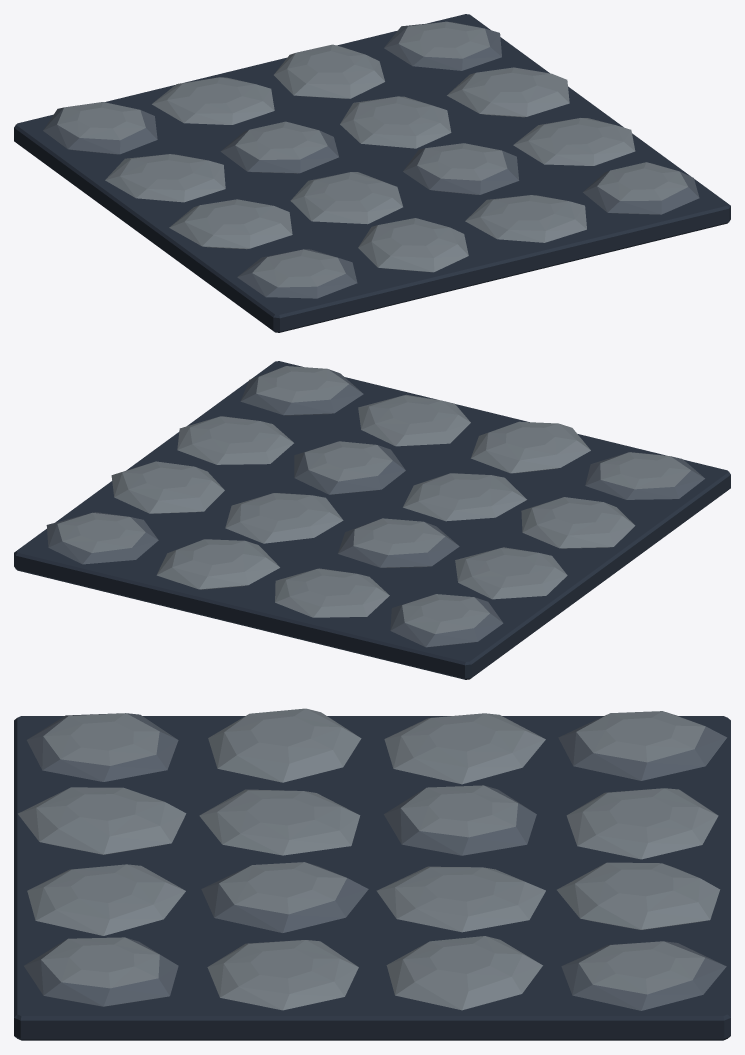
The model's file is floor-rubble.glb.
The picture shows the model from 3 angles, top to bottom: view 1: azimuth 30°, elevation 25°; view 2: azimuth 150°, elevation 25°; view 3: azimuth 270°, elevation 25°; orthographic projection. The views are drawn at different scales.
Parts seen in each view (by area): view 1: floor-rubble__body; view 2: floor-rubble__body; view 3: floor-rubble__body.
Part boxes in pixels (<box>): floor-rubble__body: <box>14,14,730,332</box>; floor-rubble__body: <box>14,361,730,679</box>; floor-rubble__body: <box>14,708,730,1040</box>.
Size of the model in its own units: 2 by 0.14 by 2.
